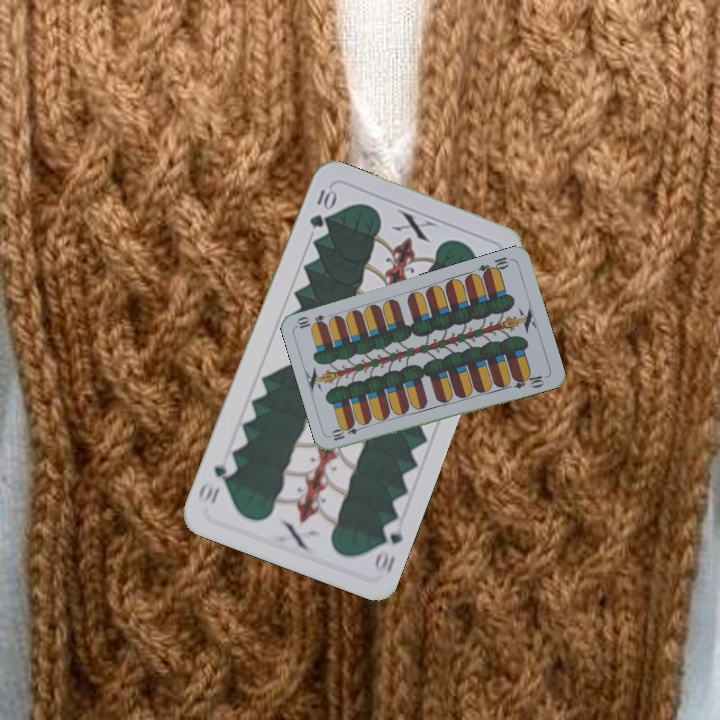E10: (475, 253, 514, 279), (328, 421, 368, 444)
G10: (369, 517, 406, 577), (305, 184, 338, 231)
